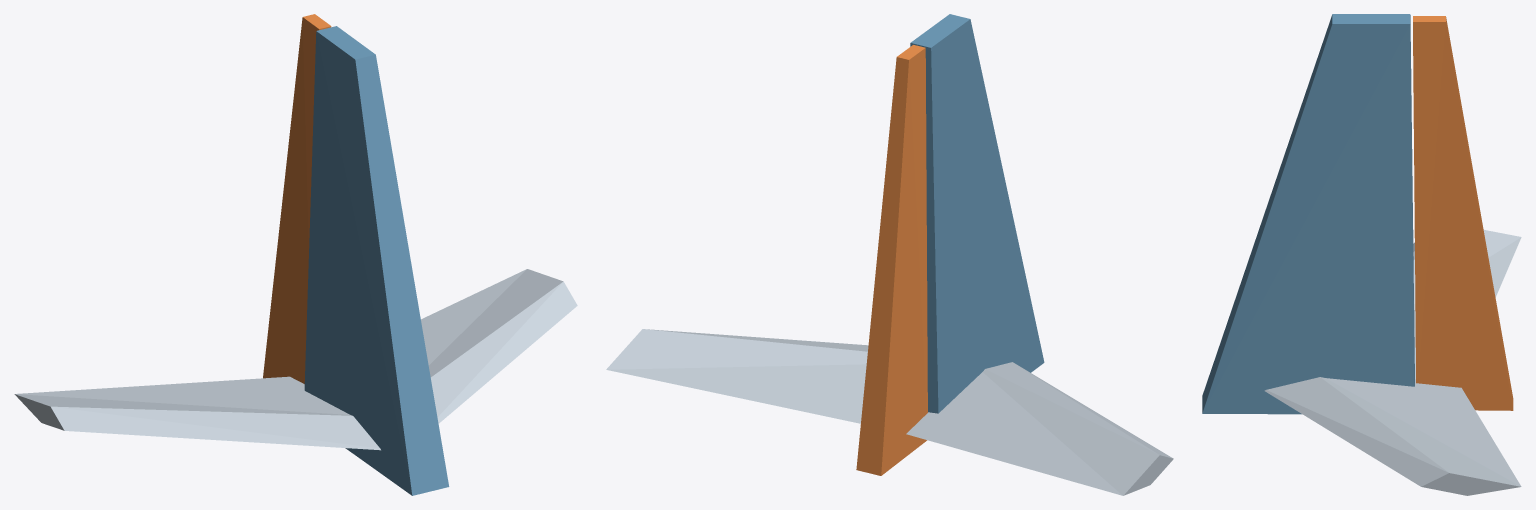
Rendered from rudder.glb.
3 renders of one model, left to right at view 1: azimuth 30°, elevation 25°; view 2: azimuth 150°, elevation 25°; view 3: azimuth 270°, elevation 25°, orthographic.
Size of the model in its own units: 5 by 3.6 by 2.7.
